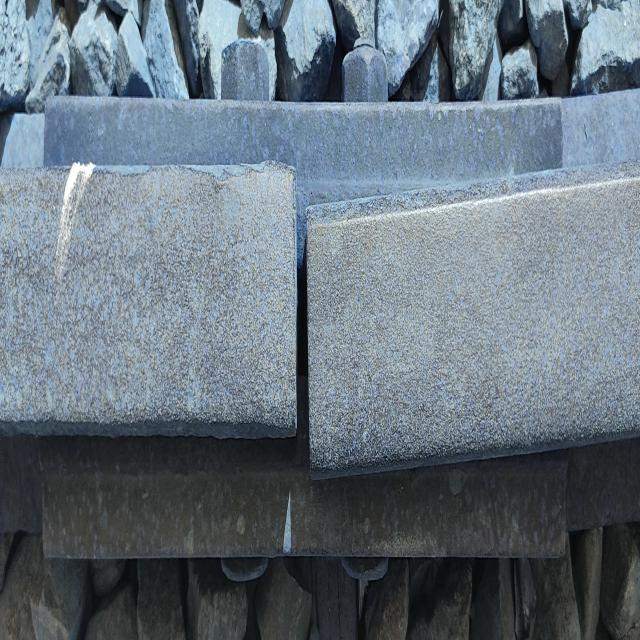railway_join_bar_defects_medium: (287, 181, 317, 484)
